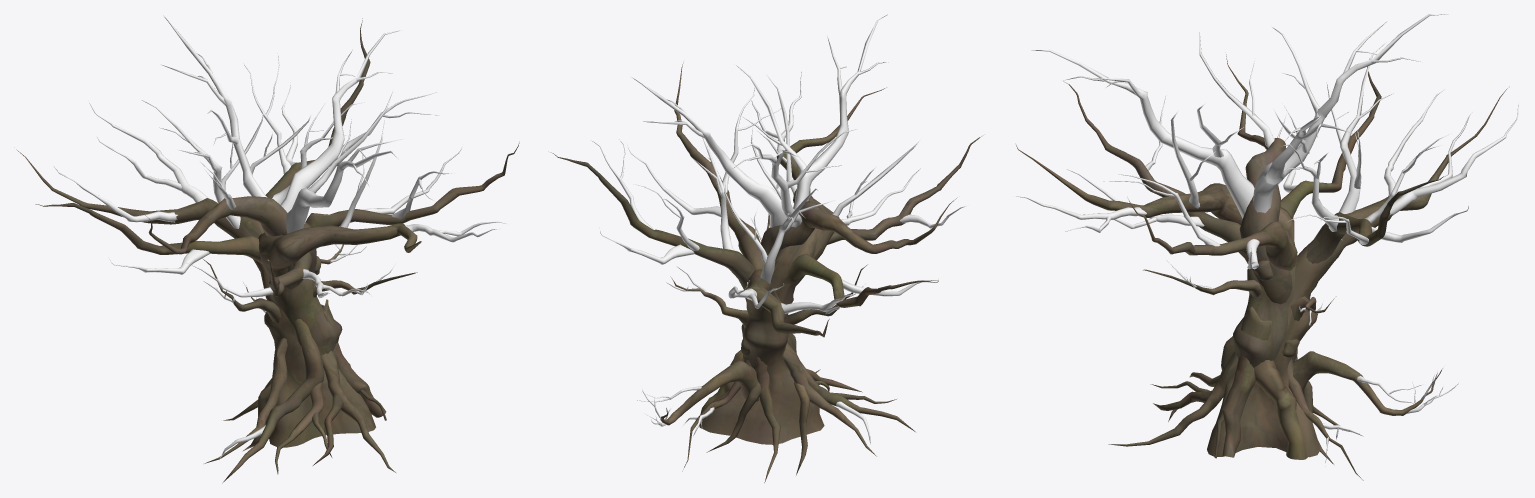
Rendered from SM_EastLands_HeroTree_Trunk.fbx.
The picture shows the model from 3 angles, left to right: view 1: azimuth 30°, elevation 25°; view 2: azimuth 150°, elevation 25°; view 3: azimuth 270°, elevation 25°; orthographic projection. The views are drawn at different scales.
Parts seen in each view (by area): view 1: SM_EastLands_HeroTree_Trunk_LOD0; view 2: SM_EastLands_HeroTree_Trunk_LOD0; view 3: SM_EastLands_HeroTree_Trunk_LOD0.
Part boxes in pixels (box(x1,y1,x2,y2)): SM_EastLands_HeroTree_Trunk_LOD0: box(16, 15, 519, 483); SM_EastLands_HeroTree_Trunk_LOD0: box(551, 14, 984, 482); SM_EastLands_HeroTree_Trunk_LOD0: box(1016, 14, 1519, 480).
Size of the model in its own units: 6963 by 6765 by 7358.
